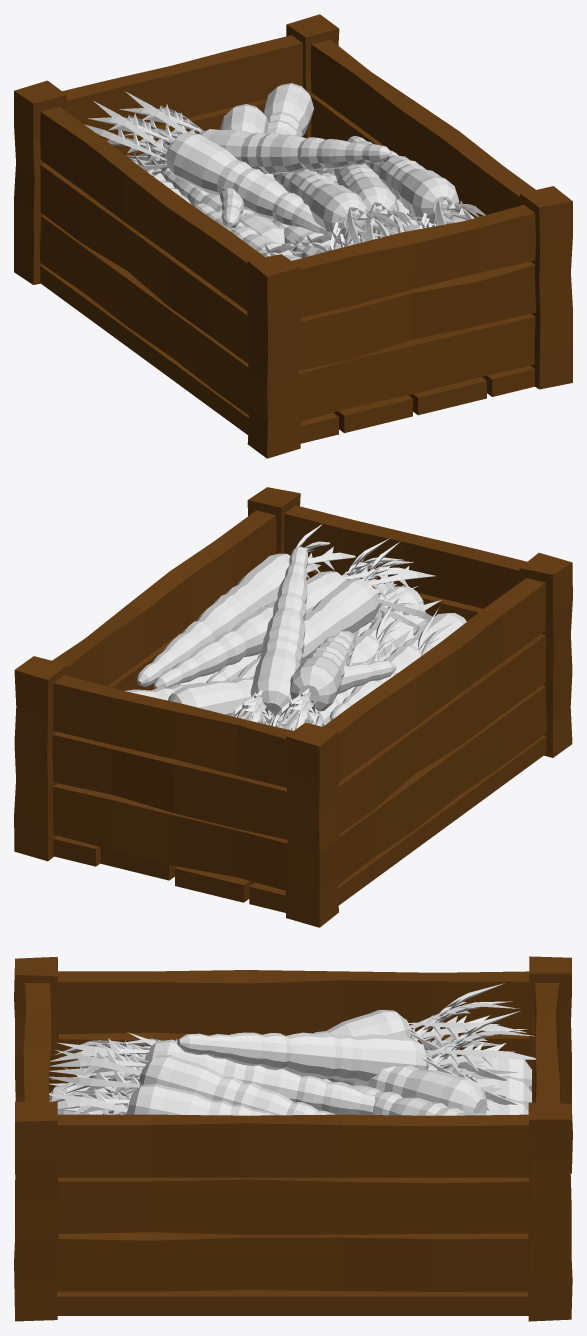
File: Carrotkasse.fbx
3 views of the same model, one above another, from view 1: azimuth 30°, elevation 25°; view 2: azimuth 150°, elevation 25°; view 3: azimuth 270°, elevation 25° (orthographic). The views are drawn at different scales.
Parts seen in each view (by area): view 1: Plane.044, Cube.022, Cube.011, Cube.010, Cube.012, Cube.013, Cube.017, Cube.021, Cube.020, Cube.014, Cube.004, Plane.027 (+8 smaller); view 2: Plane.044, Cube.022, Cube.017, Cube.010, Cube.018, Cube.019, Cube.021, Cube.020, Cube.011, Cube.006, Cube.005, Plane.027 (+8 smaller); view 3: Cube.010, Plane.044, Cube.008, Cube.009, Cube.022, Cube.002, Plane.027, Cube.004, Cube.005, Cube.006, Cube.011, Cube.014 (+2 smaller).
Boxes of the visible parts, x1,y1,x2,y2 form: Plane.044: (130,83,465,260); Cube.022: (40,107,264,310); Cube.011: (292,205,535,317); Cube.010: (311,39,535,216); Cube.012: (299,261,535,370); Cube.013: (298,313,535,421); Cube.017: (62,35,303,139); Cube.021: (40,163,248,363); Cube.020: (40,215,249,415); Cube.014: (247,254,300,458); Cube.004: (520,186,572,389); Plane.027: (84,91,485,256); Plane.044: (125,546,466,729); Cube.022: (323,578,545,781); Cube.017: (53,675,292,787); Cube.010: (52,510,276,686); Cube.018: (52,732,287,839); Cube.019: (53,783,287,890); Cube.021: (339,634,545,833); Cube.020: (337,685,546,885); Cube.011: (284,505,526,608); Cube.006: (285,722,339,927); Cube.005: (14,656,67,861); Plane.027: (230,524,453,730); Cube.010: (57,1114,530,1177); Plane.044: (80,1010,531,1115); Cube.008: (56,1232,528,1291); Cube.009: (58,1177,529,1234); Cube.022: (56,970,530,1034); Cube.002: (57,1290,528,1315); Plane.027: (49,983,535,1114); Cube.004: (14,1101,59,1321); Cube.005: (528,1102,572,1321); Cube.006: (529,956,572,1173); Cube.011: (23,983,51,1101); Cube.014: (14,956,58,1174).
Size of the model in its own units: 465 by 300 by 667.
